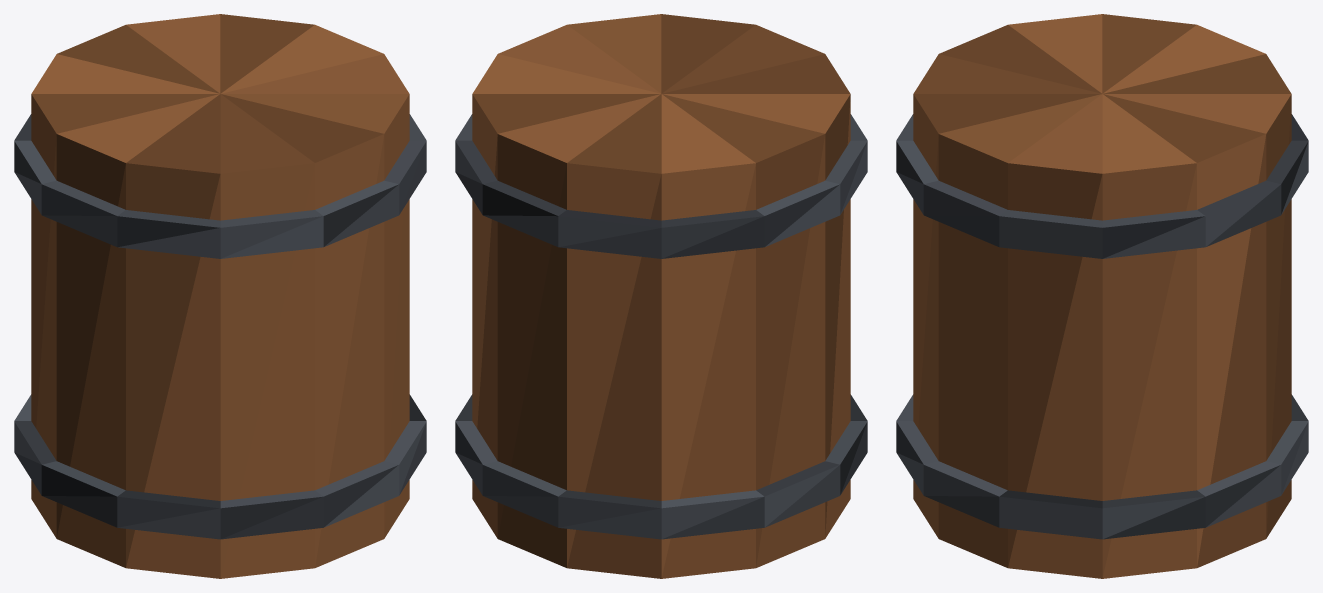
Rendered from barrel.glb.
The picture shows the model from 3 angles, left to right: view 1: azimuth 30°, elevation 25°; view 2: azimuth 150°, elevation 25°; view 3: azimuth 270°, elevation 25°; orthographic projection.
Bounding box in the file's own units: 1.2 × 1.3 × 1.2.
